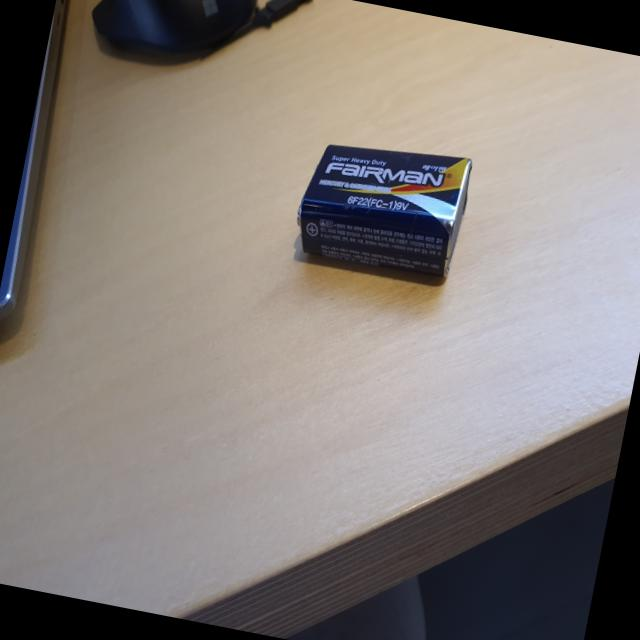battery-etc-etc: (285, 126, 487, 299)
